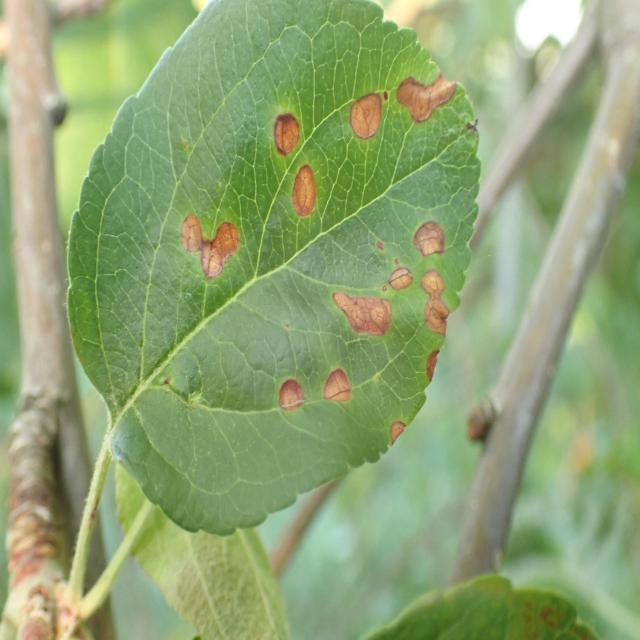Black Rot: (392, 58, 466, 148), (172, 208, 245, 287), (332, 276, 391, 358), (341, 85, 390, 159), (288, 150, 326, 228), (264, 90, 305, 158), (277, 359, 315, 430), (405, 209, 452, 263), (318, 364, 358, 416), (387, 247, 416, 316), (418, 296, 458, 345), (412, 258, 456, 296), (414, 340, 444, 390), (378, 420, 412, 460)
